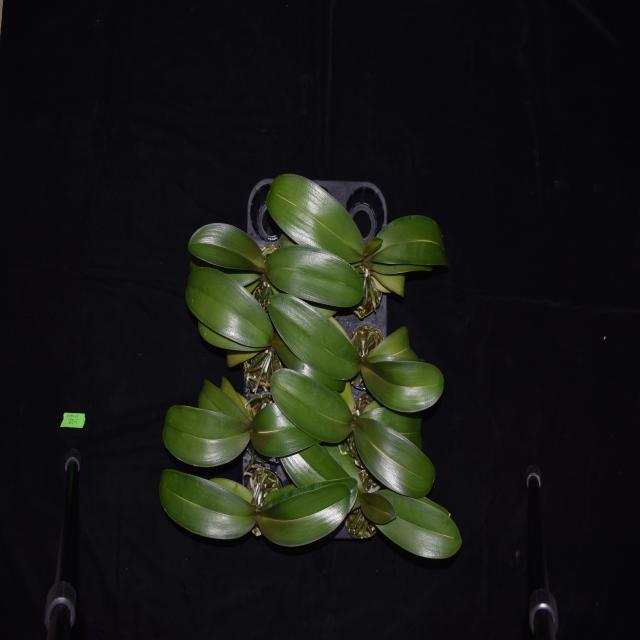leaf: (265, 168, 364, 262), (264, 292, 361, 381), (186, 260, 273, 352), (264, 243, 368, 312), (157, 467, 254, 539), (356, 414, 444, 492), (269, 366, 353, 446), (256, 480, 350, 546), (161, 402, 252, 464), (378, 492, 463, 558), (361, 359, 443, 413), (184, 221, 264, 276), (374, 212, 450, 265), (255, 401, 317, 459), (361, 406, 435, 446), (286, 443, 351, 487), (360, 323, 420, 363), (197, 379, 250, 421), (220, 371, 249, 422), (361, 488, 399, 525), (371, 262, 433, 275), (372, 272, 407, 295), (365, 235, 383, 256)
